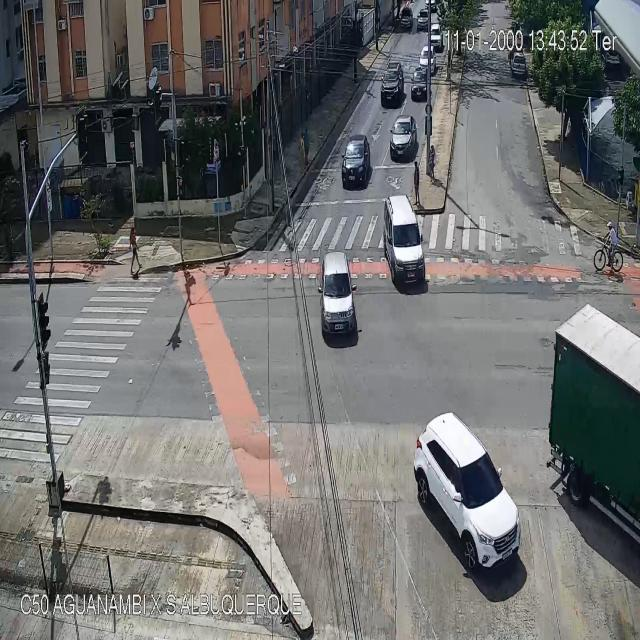Car: (414, 410, 520, 569), (384, 194, 427, 286), (318, 250, 358, 340), (341, 134, 372, 188), (389, 118, 417, 158), (380, 64, 404, 103), (418, 43, 437, 78), (427, 20, 443, 52), (411, 68, 427, 98), (429, 23, 443, 50), (399, 7, 412, 30), (418, 8, 430, 30), (514, 53, 526, 75)
Truck: (550, 302, 640, 517)
